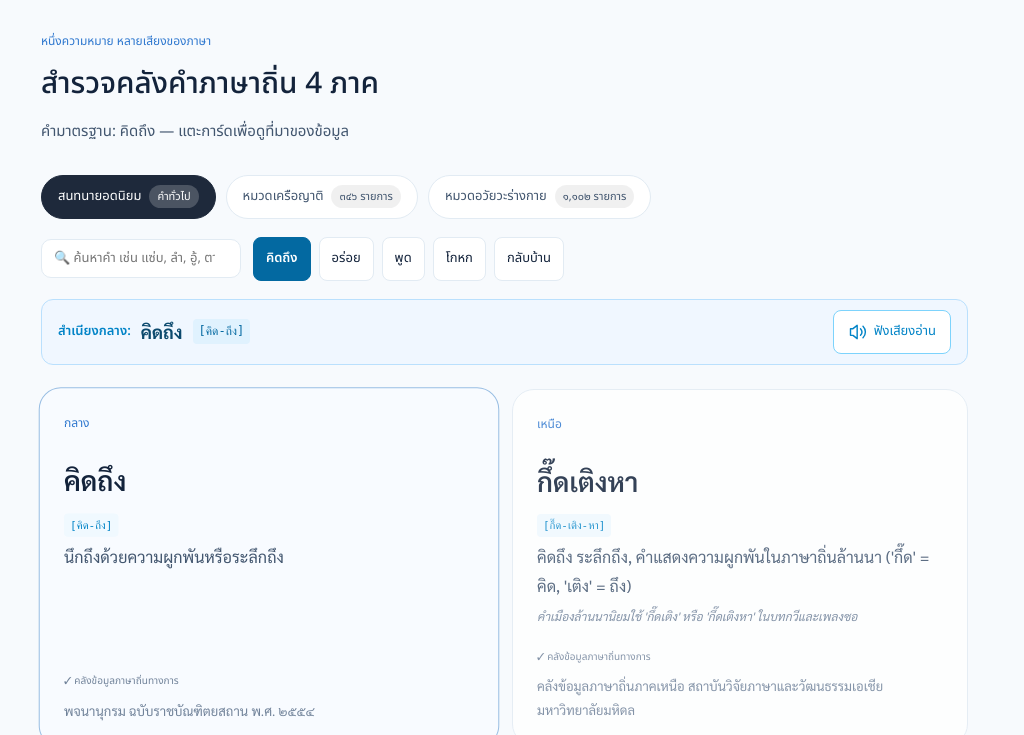
Test: DialectExplorer Component › changes the active word and updates cards when clicking a word chip
Click 'อร่อย' chip in conversation
Click the button "อร่อย" at (346, 259), box [319,237,374,281]
(page scrolled)
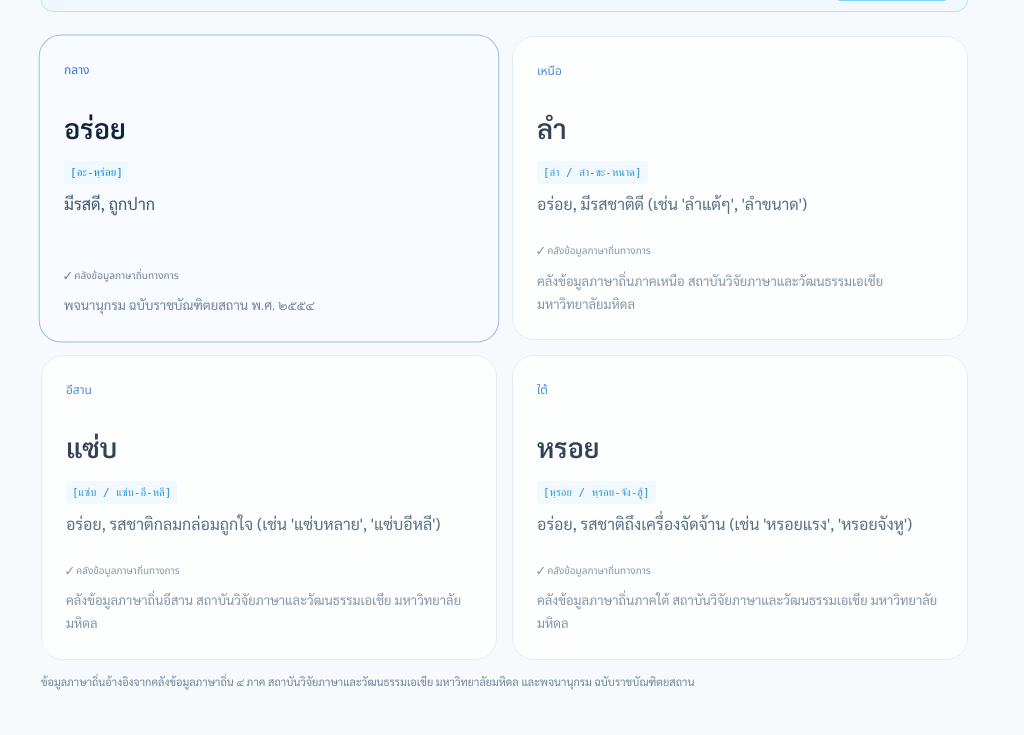
Now the text "ลำ" is shown, box [537,106,567,149]
Now the text "แซ่บ" is shown, box [66,425,117,468]
Now the text "หรอย" is shown, box [537,425,600,468]
